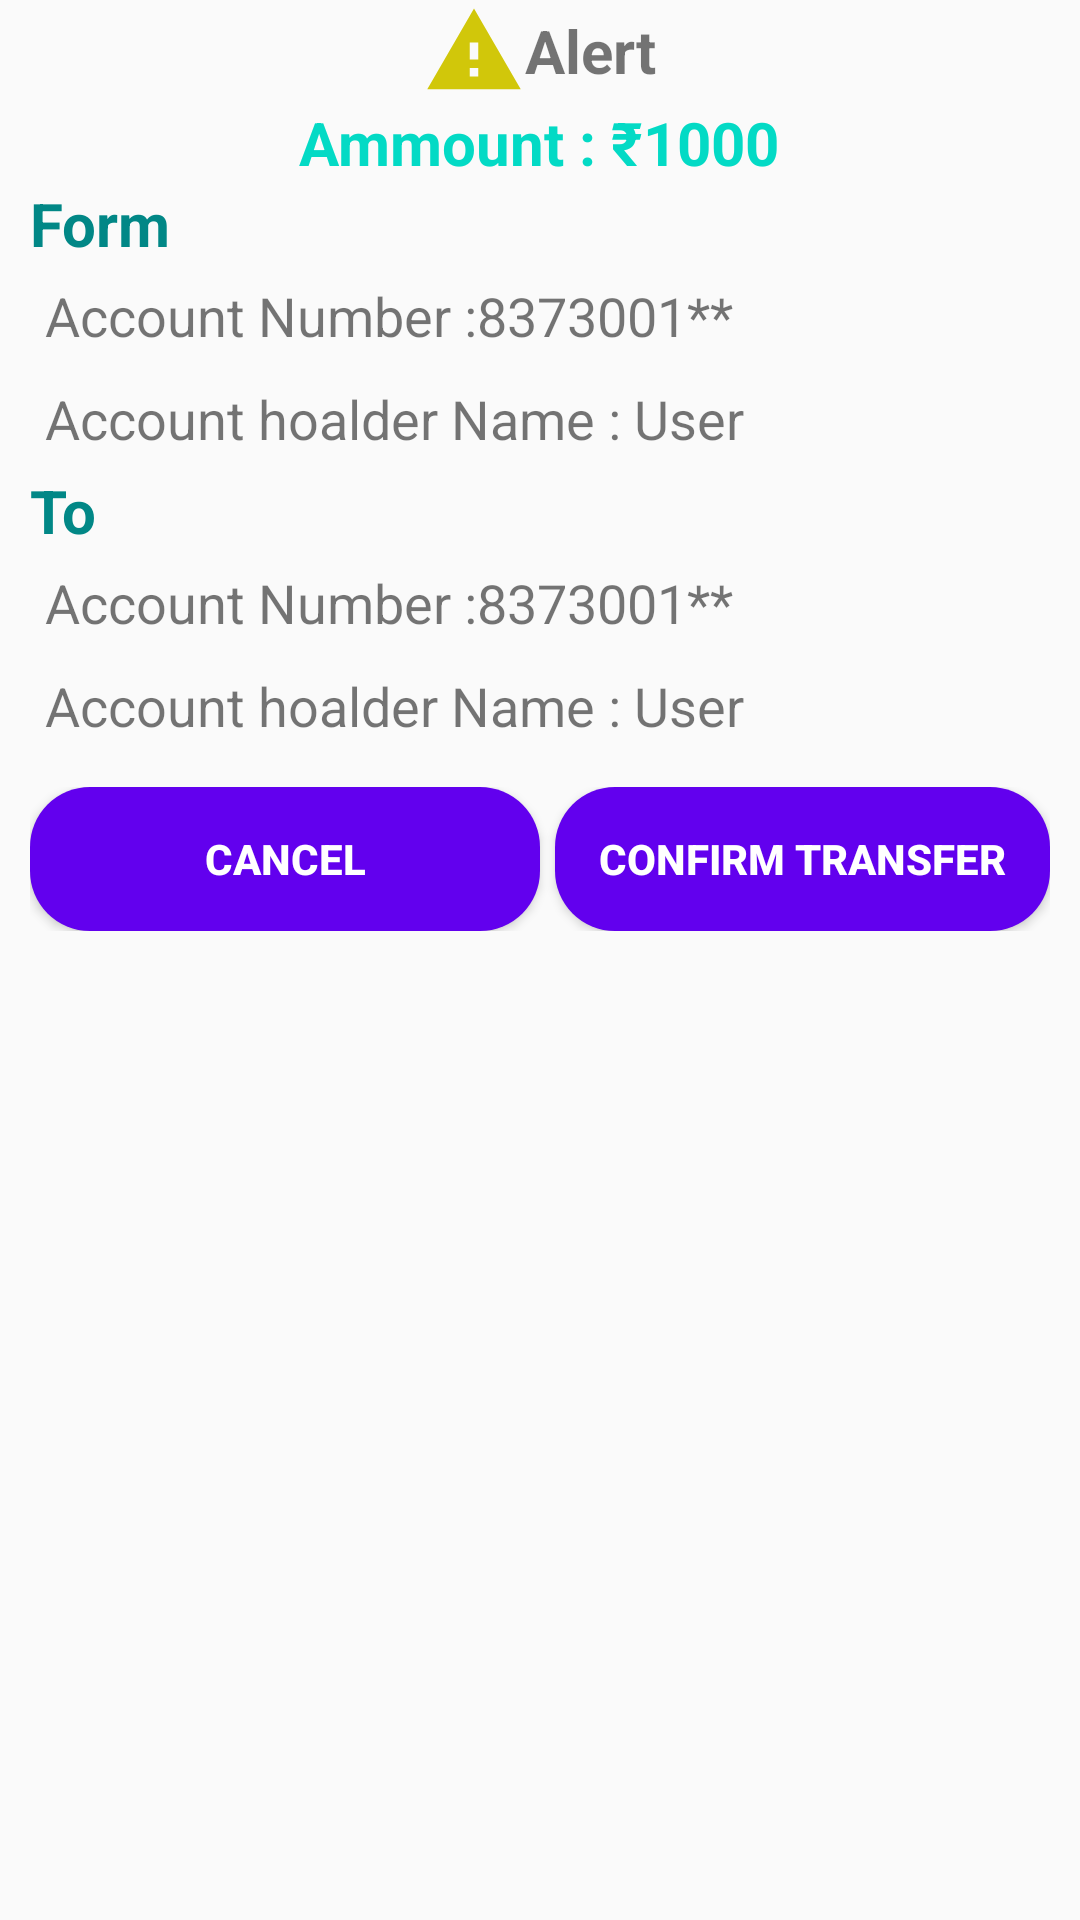

Icon click points for this 1080x1920 phone screenshot, format point (x, y):
warning: point (474, 49)
